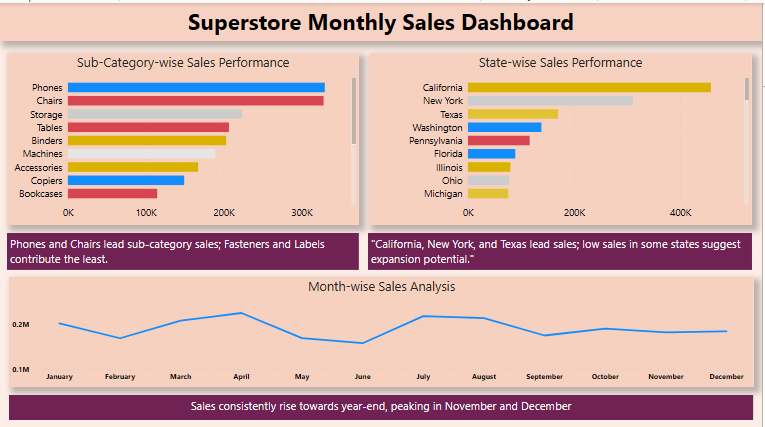

This screenshot's page, from the dashboard's own definition file:
{"tool":"powerbi","page":{"name":"Dashboard 2","canvas":[1280,720],"ordinal":1},"visuals":[{"type":"textbox","box":[0,0,1280,63.8],"z":0},{"type":"barChart","title":"Sub-Category-wise Sales Performance","fields":{"Category":["Sample___Superstore.Sub-Category"],"Y":["Sum(Sample___Superstore.Sales)"]},"box":[11.8,84,591.3,288.9],"z":1},{"type":"lineChart","title":"Month-wise Sales Analysis","fields":{"Y":["Sum(Sample___Superstore.Sales)"],"Category":["Sample___Superstore.Order Date.Variation.Date Hierarchy.Month"]},"box":[15.1,460.3,1251.4,184.8],"z":2},{"type":"barChart","title":"State-wise Sales Performance","fields":{"Y":["Sum(Sample___Superstore.Sales)"],"Category":["Sample___Superstore.State"]},"box":[619.8,84,643.4,288.9],"z":3},{"type":"textbox","box":[11.8,386.4,591.3,62.2],"z":6},{"type":"textbox","box":[618.2,386.4,645,62.2],"z":7},{"type":"textbox","box":[15.1,658.5,1249.8,42],"z":8}]}

Visuals, with their boxes in screenshot pixels (x1, y1, x2, y2), scaled from the page's 1280x720 canvas onto the 765x427 screenshot:
textbox: [0,0,764,38]
"Sub-Category-wise Sales Performance" barChart: [7,50,360,221]
"Month-wise Sales Analysis" lineChart: [9,273,757,383]
"State-wise Sales Performance" barChart: [370,50,755,221]
textbox: [7,229,360,266]
textbox: [369,229,755,266]
textbox: [9,391,756,415]
